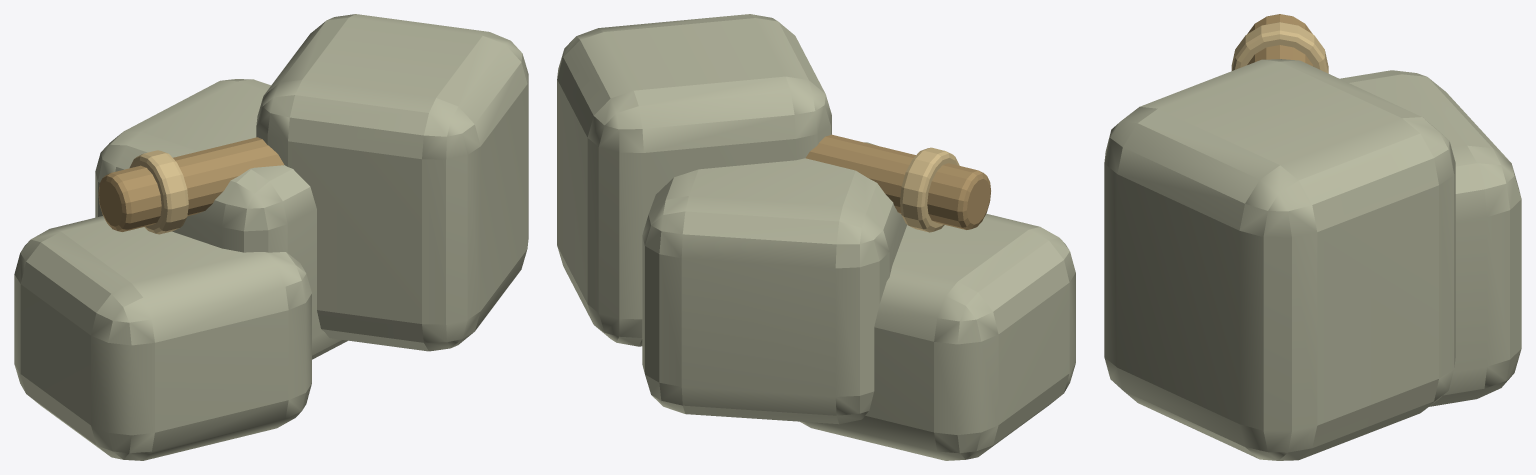
The model's file is region_1.glb.
3 renders of one model, left to right at view 1: azimuth 30°, elevation 25°; view 2: azimuth 150°, elevation 25°; view 3: azimuth 270°, elevation 25°, orthographic. The views are drawn at different scales.
Visible parts, largest first — view 1: Surface_RegionStone1, Surface_Brass, Surface_PolishedRim; view 2: Surface_RegionStone1, Surface_Brass, Surface_PolishedRim; view 3: Surface_RegionStone1, Surface_PolishedRim, Surface_Brass.
Boxes of the visible parts, bbox=[...] form: Surface_RegionStone1: bbox=[14, 14, 528, 460]; Surface_Brass: bbox=[98, 137, 284, 231]; Surface_PolishedRim: bbox=[129, 150, 188, 234]; Surface_RegionStone1: bbox=[557, 14, 1075, 460]; Surface_Brass: bbox=[805, 134, 990, 229]; Surface_PolishedRim: bbox=[900, 147, 959, 232]; Surface_RegionStone1: bbox=[1104, 59, 1521, 460]; Surface_PolishedRim: bbox=[1231, 22, 1328, 73]; Surface_Brass: bbox=[1247, 14, 1313, 66].
Size of the model in its own units: 1.95 by 1.21 by 1.29.
